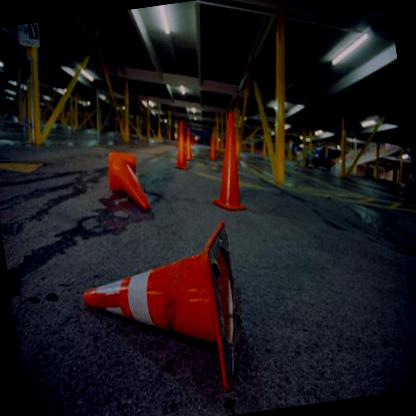cone: (76, 219, 252, 398), (204, 102, 252, 210), (104, 147, 152, 214), (169, 118, 192, 168), (206, 126, 220, 158)
